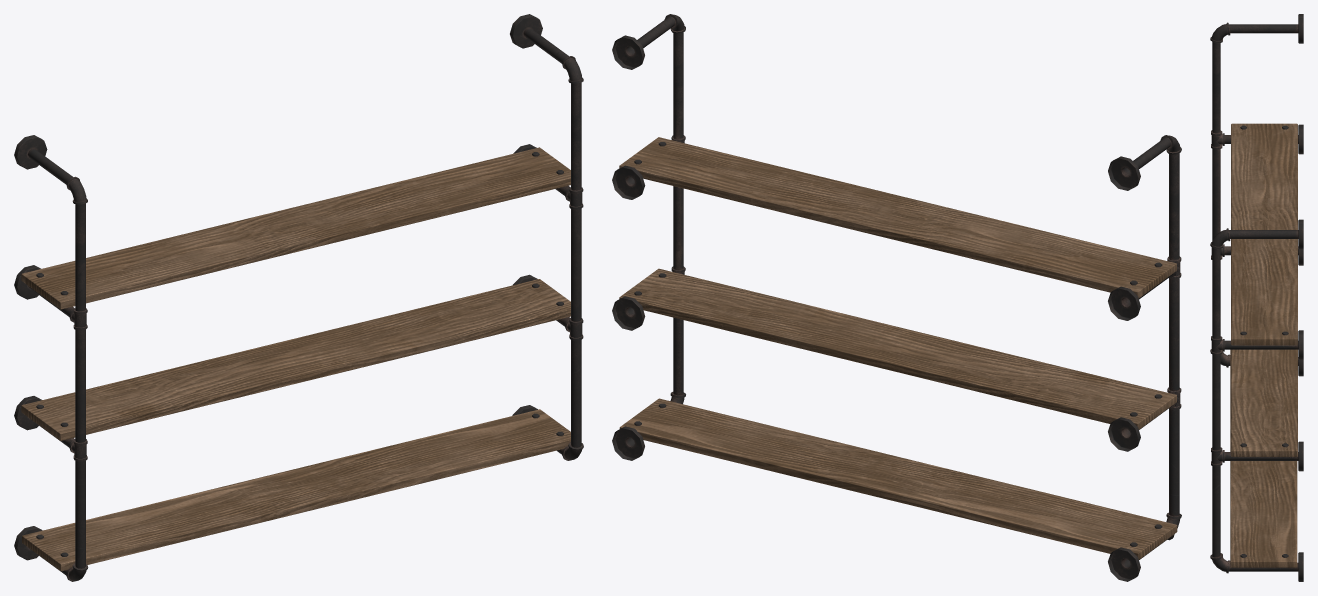
Rendered from modern_wall_rack.glb.
3 renders of one model, left to right at view 1: azimuth 30°, elevation 25°; view 2: azimuth 150°, elevation 25°; view 3: azimuth 270°, elevation 25°, orthographic. The views are drawn at different scales.
Parts seen in each view (by area): view 1: rak baru; view 2: rak baru; view 3: rak baru.
Boxes of the visible parts, bbox=[...] form: rak baru: bbox=[14, 14, 583, 581]; rak baru: bbox=[612, 14, 1181, 581]; rak baru: bbox=[1210, 14, 1303, 581].
Size of the model in its own units: 1.24 by 0.9498 by 0.2241.
1 material, 1 textured.
